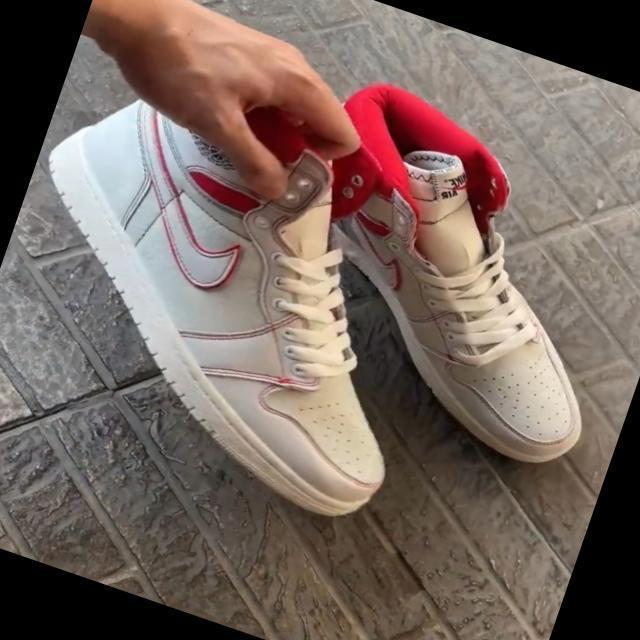nike fake jordan 1: (218, 56, 640, 481)
